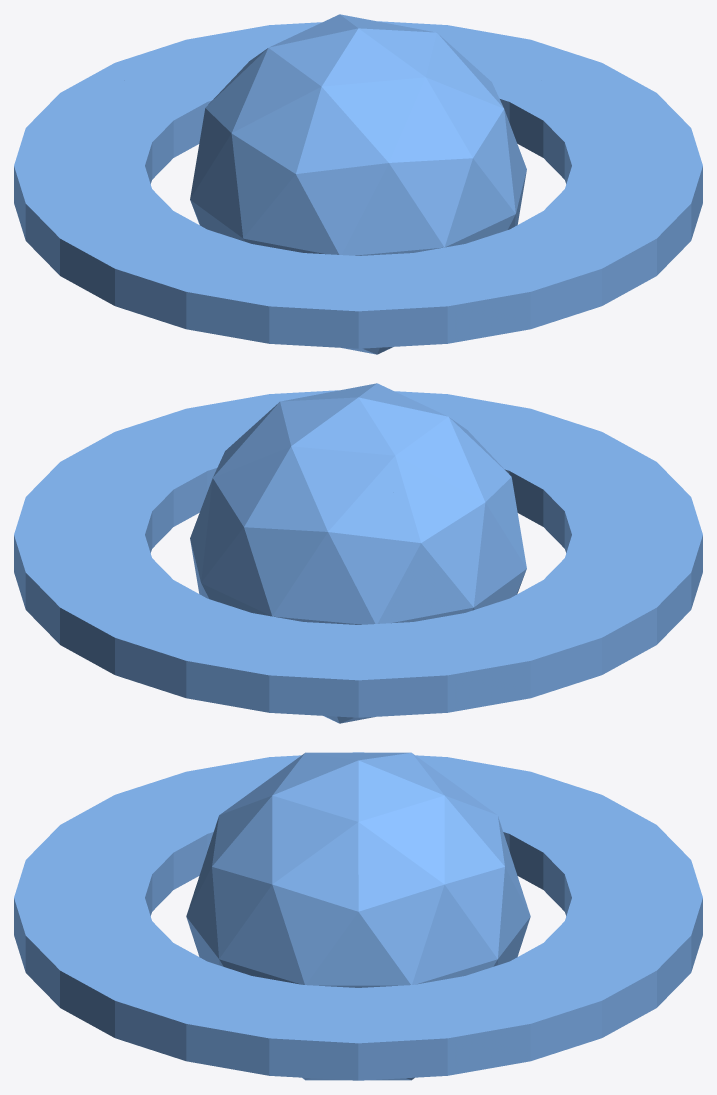
File: Planet.fbx
The picture shows the model from 3 angles, top to bottom: view 1: azimuth 30°, elevation 25°; view 2: azimuth 150°, elevation 25°; view 3: azimuth 270°, elevation 25°; orthographic projection.
Parts seen in each view (by area): view 1: Segment_9.006, Segment_13.004, Segment_3.011, Segment_1.011, Segment_17.002, Segment_6.010, Segment_19.002, Segment_10.006, Segment_15.004, Segment_21.002, Segment_4.011; view 2: Segment_15.004, Segment_6.010, Segment_3.011, Segment_16.004, Segment_13.004, Segment_21.002, Segment_19.002, Segment_1.011, Segment_9.006, Segment_4.011, Segment_17.002, Segment_7.009; view 3: Segment_19.002, Segment_13.004, Segment_15.004, Segment_9.006, Segment_17.002, Segment_21.002, Segment_6.010, Segment_1.011, Segment_16.004, Segment_20.002, Segment_10.006, Segment_3.011.
Boxes of the visible parts, x1=… form: Segment_9.006: x1=304, y1=156, x2=615, y2=346; Segment_13.004: x1=222, y1=16, x2=511, y2=195; Segment_3.011: x1=26, y1=131, x2=303, y2=308; Segment_1.011: x1=124, y1=221, x2=399, y2=348; Segment_17.002: x1=516, y1=134, x2=702, y2=298; Segment_6.010: x1=14, y1=66, x2=173, y2=241; Segment_19.002: x1=496, y1=64, x2=692, y2=225; Segment_10.006: x1=312, y1=109, x2=510, y2=199; Segment_15.004: x1=108, y1=22, x2=321, y2=157; Segment_21.002: x1=378, y1=21, x2=604, y2=91; Segment_4.011: x1=201, y1=94, x2=301, y2=193; Segment_15.004: x1=78, y1=514, x2=400, y2=713; Segment_6.010: x1=280, y1=559, x2=605, y2=717; Segment_3.011: x1=434, y1=499, x2=692, y2=673; Segment_16.004: x1=203, y1=439, x2=416, y2=568; Segment_13.004: x1=203, y1=383, x2=508, y2=519; Segment_21.002: x1=14, y1=495, x2=202, y2=654; Segment_19.002: x1=28, y1=428, x2=224, y2=594; Segment_1.011: x1=552, y1=448, x2=702, y2=604; Segment_9.006: x1=414, y1=393, x2=630, y2=535; Segment_4.011: x1=417, y1=469, x2=515, y2=558; Segment_17.002: x1=127, y1=390, x2=424, y2=451; Segment_7.009: x1=400, y1=520, x2=434, y2=564; Segment_19.002: x1=255, y1=926, x2=445, y2=1080; Segment_13.004: x1=248, y1=752, x2=440, y2=930; Segment_15.004: x1=440, y1=852, x2=702, y2=995; Segment_9.006: x1=14, y1=841, x2=255, y2=981; Segment_17.002: x1=34, y1=944, x2=258, y2=1073; Segment_21.002: x1=440, y1=932, x2=668, y2=1075; Segment_6.010: x1=442, y1=757, x2=686, y2=889; Segment_1.011: x1=45, y1=759, x2=255, y2=881; Segment_16.004: x1=432, y1=769, x2=513, y2=930; Segment_20.002: x1=264, y1=874, x2=439, y2=942; Segment_10.006: x1=203, y1=793, x2=253, y2=922; Segment_3.011: x1=256, y1=752, x2=442, y2=787.
Size of the model in its own units: 16 by 8 by 16.
